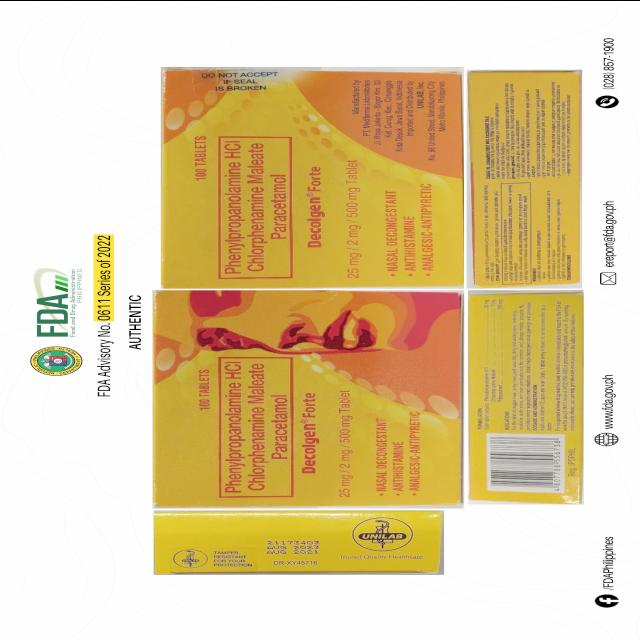authentic: (148, 286, 468, 511), (154, 55, 462, 288), (464, 62, 584, 286), (468, 292, 586, 508), (143, 511, 460, 580)
